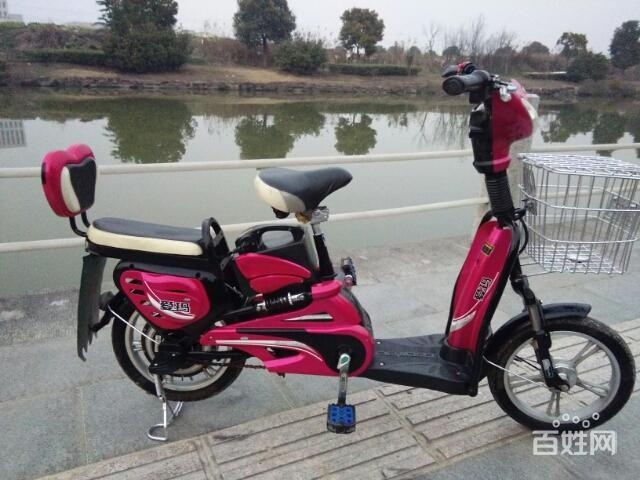电动车: (15, 53, 640, 456)
